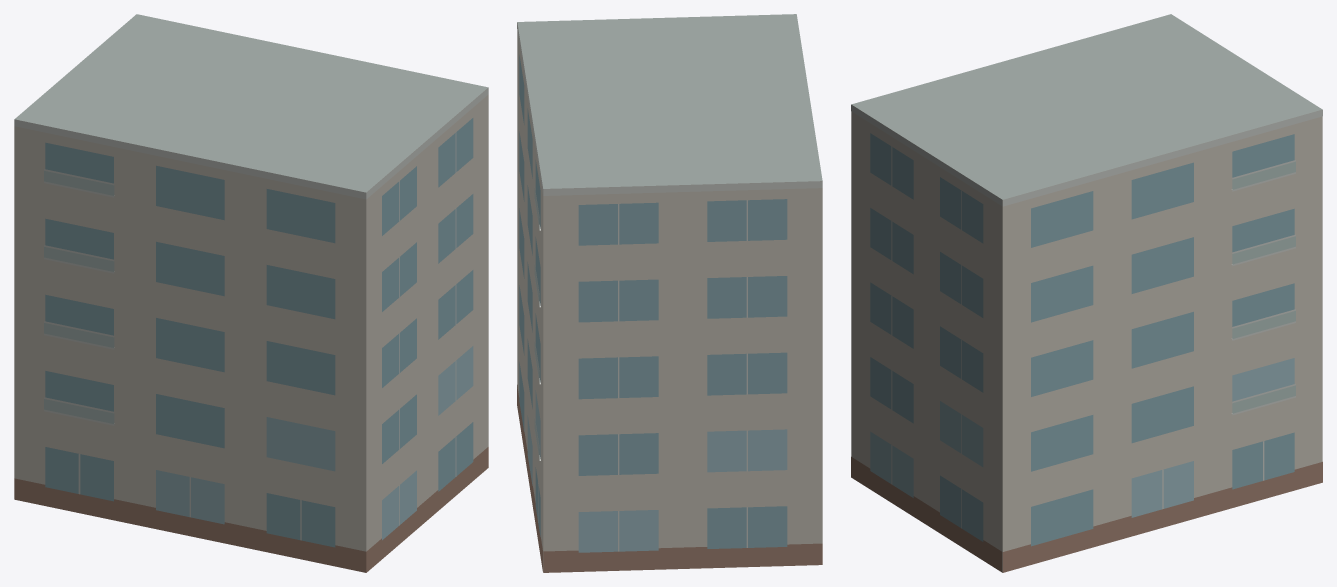
File: survey-upis-32881694.glb
3 renders of one model, left to right at view 1: azimuth 30°, elevation 25°; view 2: azimuth 150°, elevation 25°; view 3: azimuth 270°, elevation 25°, orthographic. The views are drawn at different scales.
Visible parts, largest first — view 1: survey-upis-32881694.tmp; view 2: survey-upis-32881694.tmp; view 3: survey-upis-32881694.tmp.
Boxes of the visible parts, <box> form: survey-upis-32881694.tmp: <box>14,14,488,572</box>; survey-upis-32881694.tmp: <box>517,14,822,572</box>; survey-upis-32881694.tmp: <box>851,14,1322,572</box>.
Size of the model in its own units: 14.33 by 13.4 by 15.36.
